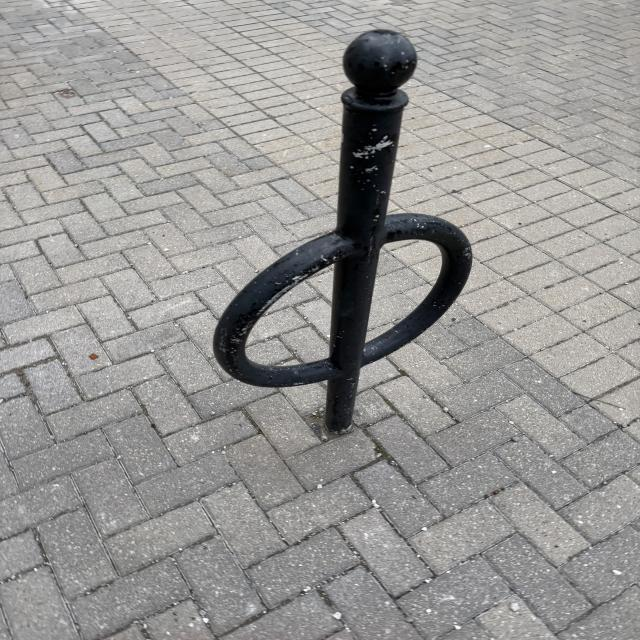Bicycle Rack: (212, 32, 474, 430)
